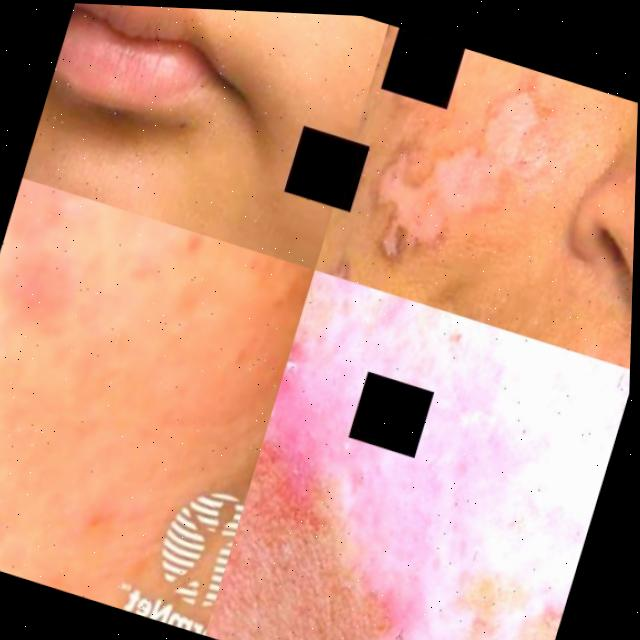lupus-detected: (204, 265, 632, 640), (313, 21, 603, 340), (0, 177, 283, 457), (574, 94, 638, 248)
